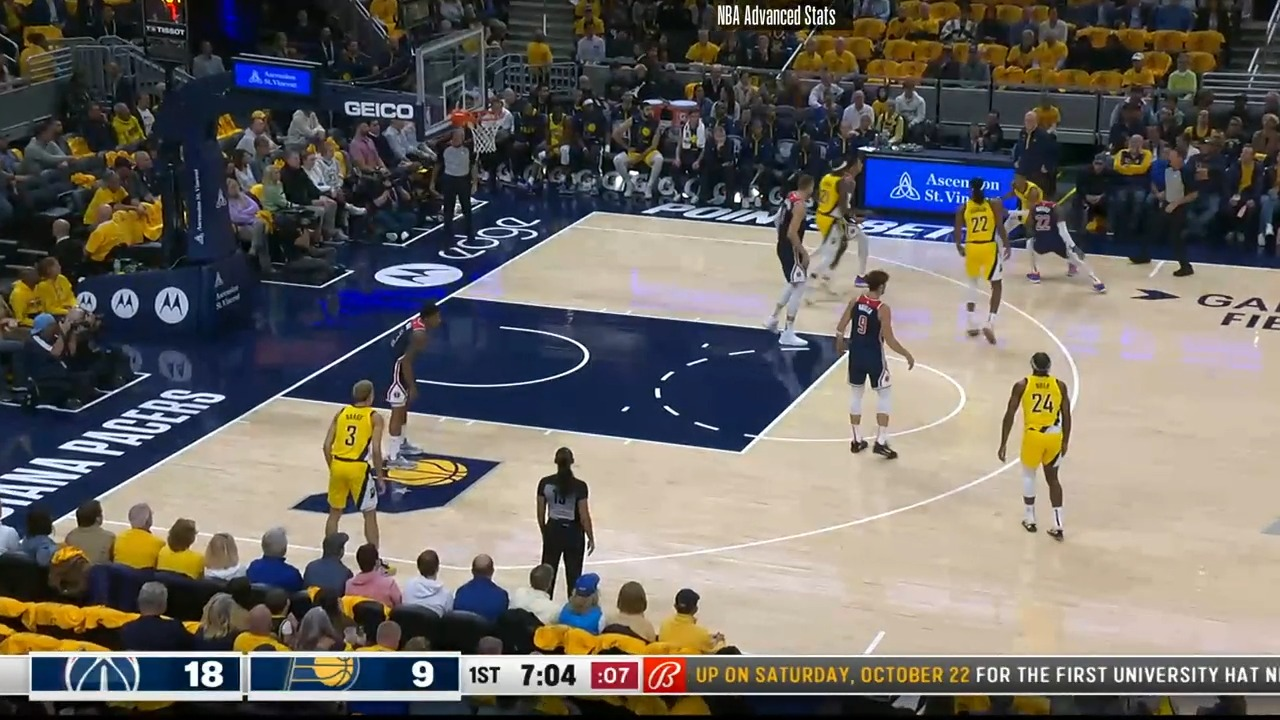net: (453, 102, 511, 154)
player: (832, 268, 917, 466), (990, 350, 1073, 547), (323, 377, 400, 567), (385, 300, 455, 477), (951, 174, 1014, 352), (763, 175, 817, 353), (1028, 186, 1108, 298), (811, 152, 872, 282), (995, 170, 1048, 249)
referee: (532, 446, 601, 606), (1144, 142, 1199, 279), (433, 131, 481, 256)
